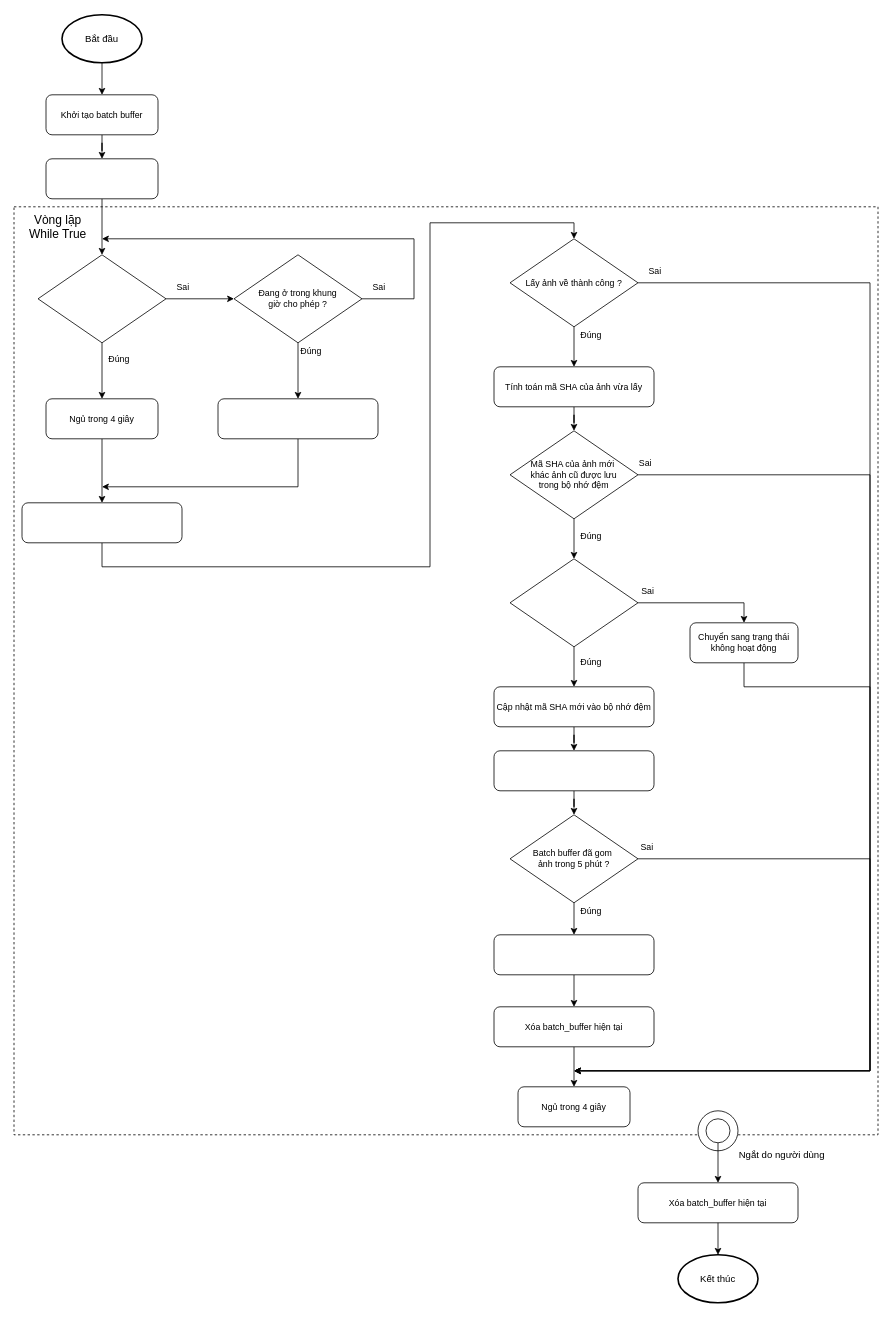
Image size: 892x1317. Some labels were removed from this diagram. Each missing label, with the box of its shape:
Chuyển sang trạng thái hoạt động: (217, 398, 378, 439)
Gửi task tạo folder camera thông qua drive_queue: (45, 158, 158, 199)
Gửi yêu cầu HTTP để lấy ảnh từ camera: (21, 502, 182, 543)
Thêm ảnh vào batch buffer: (493, 750, 654, 791)
Thời điểm ảnh chụp nằm trong khung giờ cho phép ?: (509, 558, 638, 647)
Đang ở trạng thái hoạt động ?: (37, 254, 166, 343)
Đẩy ảnh qua drive_queue: (493, 934, 654, 975)
